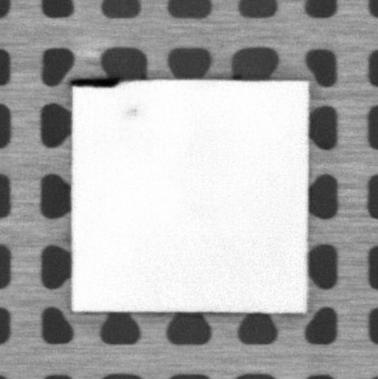DIE_BROKEN: (68, 76, 122, 89)
